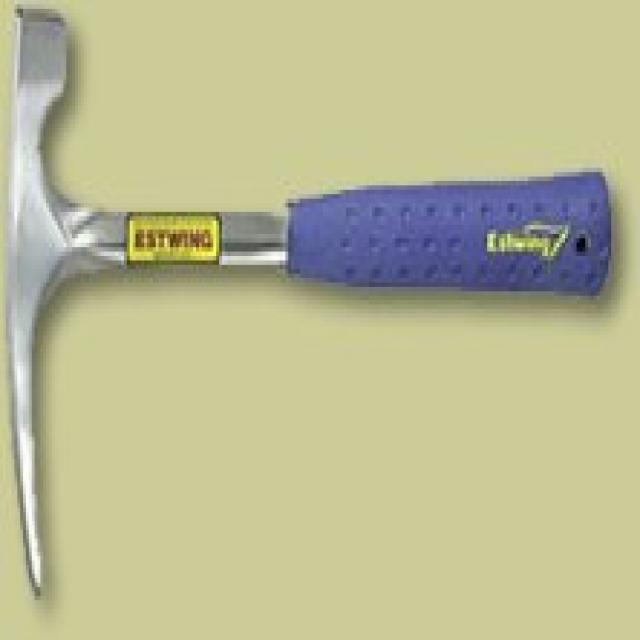hammer: (0, 0, 618, 611)
